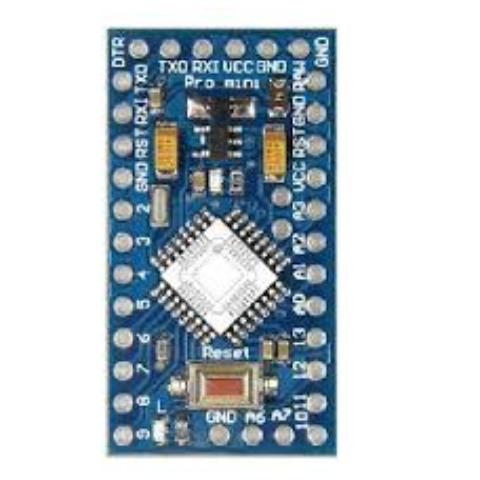Arduino-Pro-Mini: (92, 15, 350, 464)
